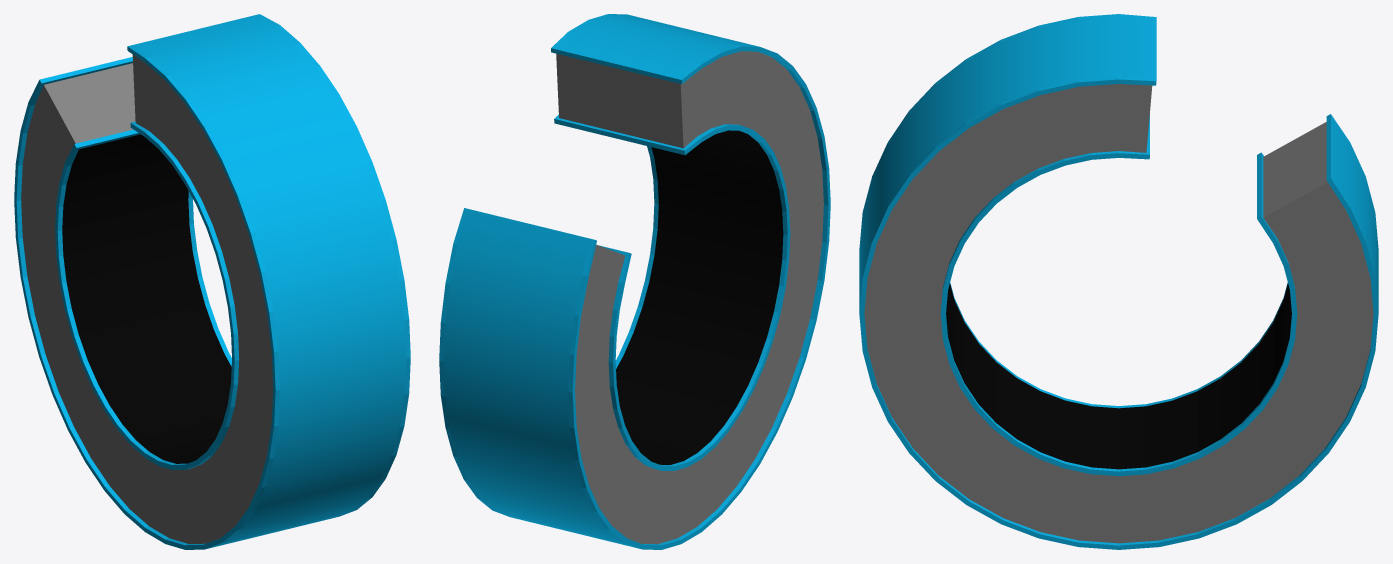
The model's file is Firewall1.FBX.
3 renders of one model, left to right at view 1: azimuth 30°, elevation 25°; view 2: azimuth 150°, elevation 25°; view 3: azimuth 270°, elevation 25°, orthographic.
Visible parts, largest first — view 1: Cylinder002; view 2: Cylinder002; view 3: Cylinder002.
Boxes of the visible parts, <box> form: Cylinder002: <box>14,14,410,549</box>; Cylinder002: <box>439,14,830,549</box>; Cylinder002: <box>859,14,1378,549</box>.
Size of the model in its own units: 44.77 by 150 by 150.
